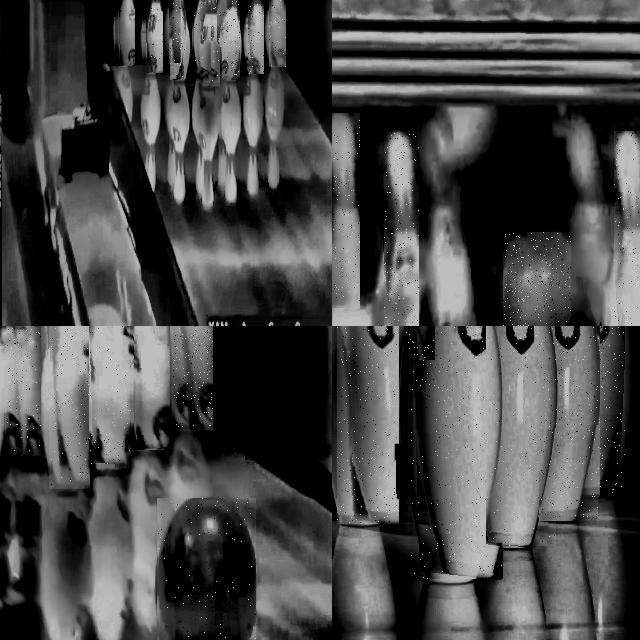bowling-ball: (158, 498, 256, 640), (503, 233, 571, 326)
bowling-pins: (411, 326, 502, 579), (487, 326, 556, 546), (337, 326, 399, 524), (541, 326, 597, 518), (582, 326, 625, 496), (384, 132, 419, 326), (51, 326, 89, 487), (89, 326, 130, 465), (332, 114, 359, 307), (614, 131, 640, 326), (132, 326, 169, 448), (8, 326, 41, 454), (178, 326, 212, 427), (145, 0, 163, 73), (205, 0, 220, 84), (224, 0, 240, 77), (248, 0, 264, 74), (117, 0, 135, 65), (269, 0, 286, 67), (173, 0, 185, 79), (193, 0, 205, 70), (395, 444, 407, 497), (169, 0, 177, 63), (217, 0, 226, 42)
